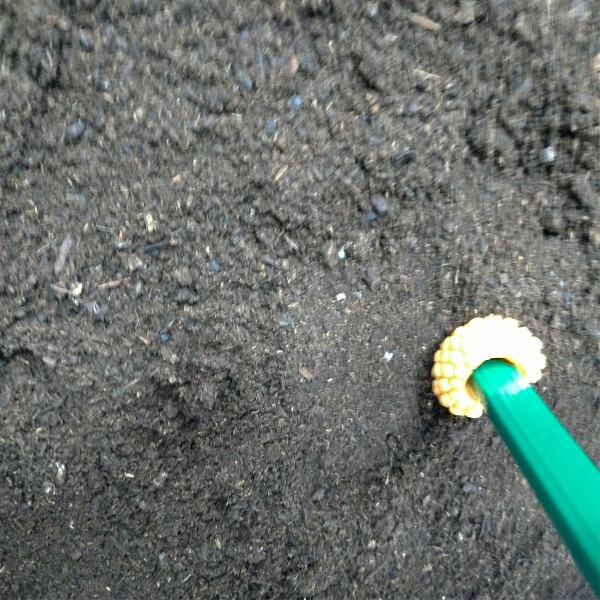eggs: (425, 313, 552, 424)
